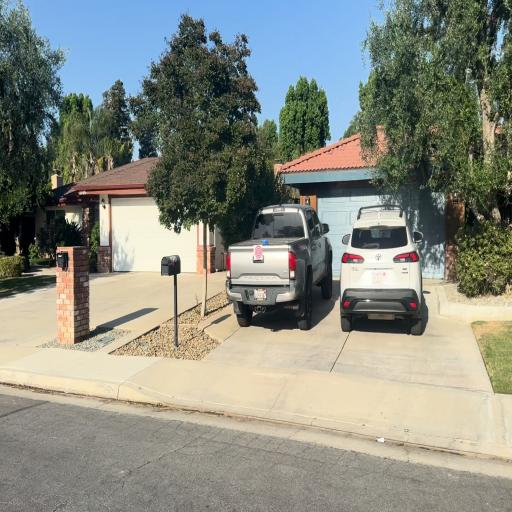bullseye: (254, 245, 262, 260)
